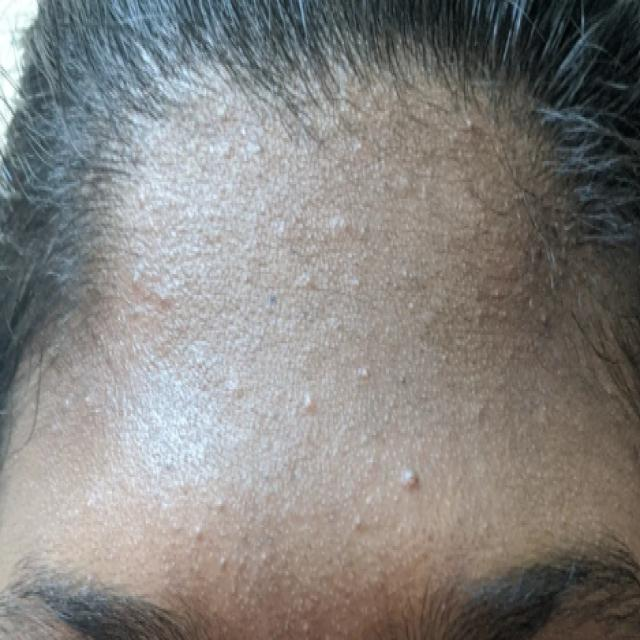fungal: (130, 96, 540, 550)
